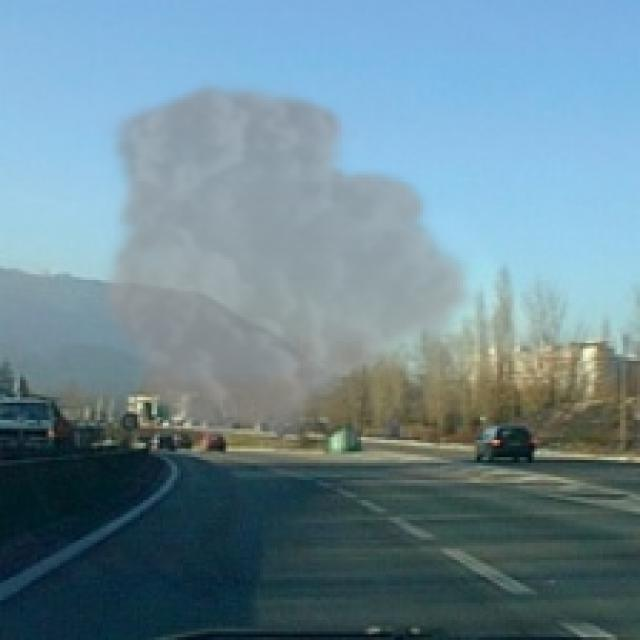Smoke: (97, 77, 483, 452)
